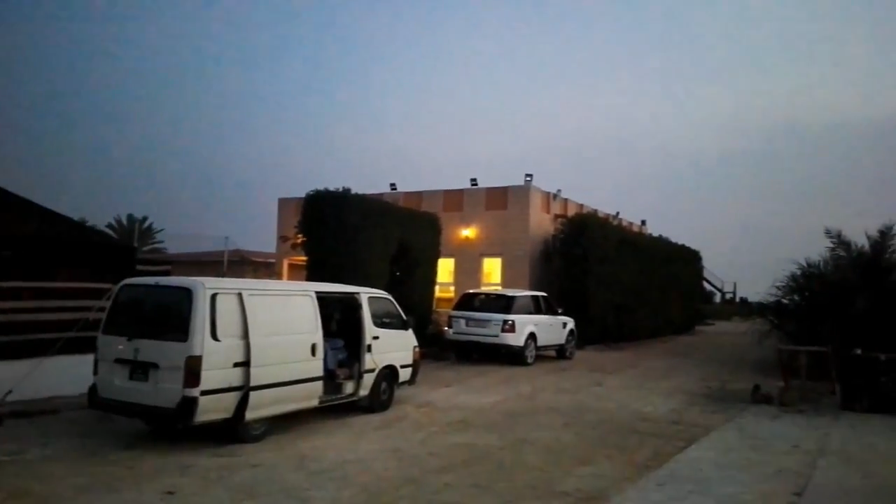car: (84, 273, 422, 448), (438, 287, 578, 367)
